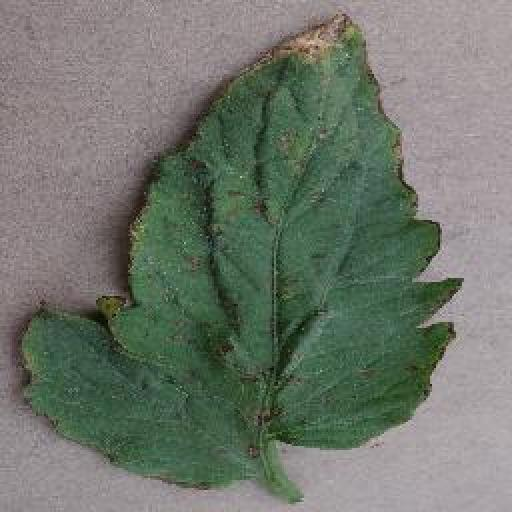Bacterial Spot: (12, 11, 465, 496)
